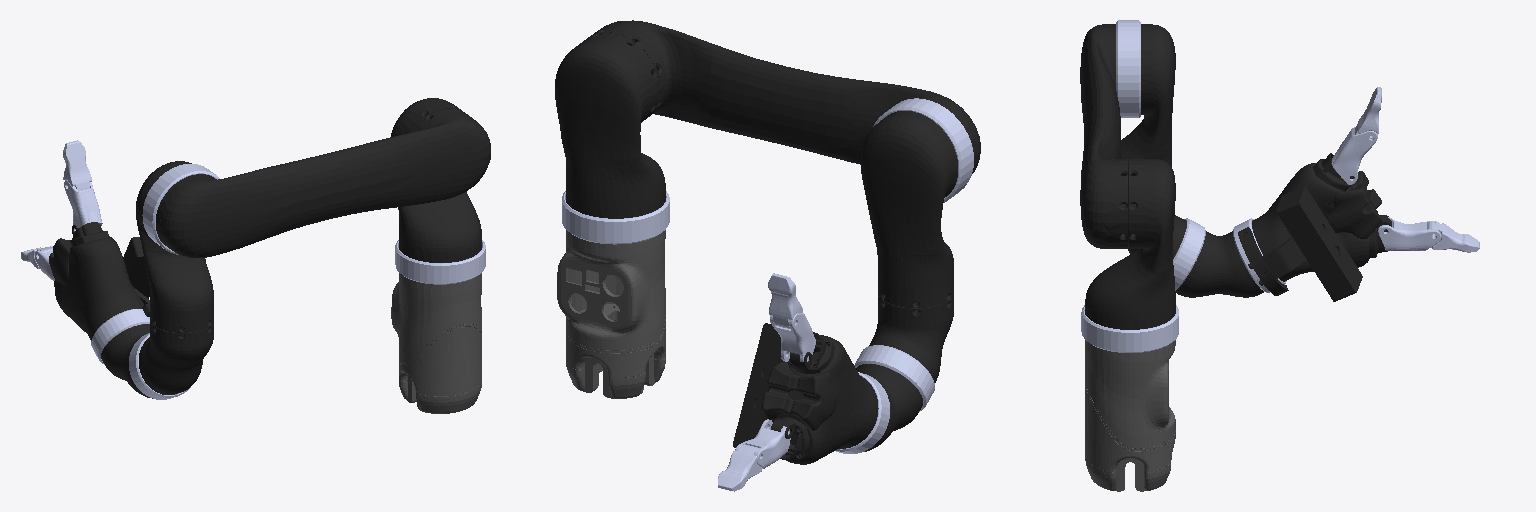
robot.urdf — ADA:
<robot
  name="ADA">
  <link
    name="base_link">
    <inertial>
      <origin
        xyz="0 -0.0018698 0.00076788"
        rpy="0 0 0" />
      <mass
        value="0.64" />
      <inertia
        ixx="0.00059853"
        ixy="0"
        ixz="0"
        iyy="0.00058911"
        iyz="0"
        izz="0.00031086" />
    </inertial>
    <visual>
      <origin
        xyz="0 0 0"
        rpy="0 0 0" />
      <geometry>
        <mesh
          filename="package://ada_description/meshes/base_link.STL" />
      </geometry>
      <material
        name="">
        <color
          rgba="0.4 0.4 0.4 1" />
      </material>
    </visual>
    <collision>
      <origin
        xyz="0 0 0"
        rpy="0 0 0" />
      <geometry>
        <mesh
          filename="package://ada_description/meshes/base_link.STL" />
      </geometry>
    </collision>
  </link>
  <link
    name="Shoulder_Link">
    <inertial>
      <origin
        xyz="0 0.015563 0.072664"
        rpy="0 0 0" />
      <mass
        value="0.15215" />
      <inertia
        ixx="0.00035346"
        ixy="0"
        ixz="0"
        iyy="0.00038125"
        iyz="0"
        izz="0.00016029" />
    </inertial>
    <visual>
      <origin
        xyz="0 0 0"
        rpy="0 0 0" />
      <geometry>
        <mesh
          filename="package://ada_description/meshes/Shoulder_Link.STL" />
      </geometry>
      <material
        name="">
        <color
          rgba="0.2 0.2 0.2 1" />
      </material>
    </visual>
    <collision>
      <origin
        xyz="0 0 0"
        rpy="0 0 0" />
      <geometry>
        <mesh
          filename="package://ada_description/meshes/Shoulder_Link.STL" />
      </geometry>
    </collision>
  </link>
  <joint
    name="j1"
    type="continuous">
    <origin
      xyz="0 0 0.09875"
      rpy="0 0 0" />
    <parent
      link="base_link" />
    <child
      link="Shoulder_Link" />
    <axis
      xyz="0 0 -1" />
    <!--
    <limit
      lower="-3.14"
      upper="3.14"
      effort="0"
      velocity="0.94" />
    -->
    <limit
      effort="18"
      velocity="0.94" />
  </joint>
  <transmission name="Shoulder_Joint_Transmission">
    <type>transmission_interface/SimpleTransmission</type>
    <joint name="j1"/>
    <actuator name="Shoulder_Motor">
      <hardwareInterface>EffortJointInterface</hardwareInterface>
      <mechanicalReduction>136</mechanicalReduction>
    </actuator>
  </transmission>
  <link
    name="Arm_Link">
    <inertial>
      <origin
        xyz="-0.14503 0 -0.02688"
        rpy="0 0 0" />
      <mass
        value="0.2936" />
      <inertia
        ixx="0.00020244"
        ixy="0"
        ixz="0"
        iyy="0.0033623"
        iyz="0"
        izz="0.0034884" />
    </inertial>
    <visual>
      <origin
        xyz="0 0 0"
        rpy="0 0 0" />
      <geometry>
        <mesh
          filename="package://ada_description/meshes/Arm_Link.STL" />
      </geometry>
      <material
        name="">
        <color
          rgba="0.2 0.2 0.2 1" />
      </material>
    </visual>
    <collision>
      <origin
        xyz="0 0 0"
        rpy="0 0 0" />
      <geometry>
        <mesh
          filename="package://ada_description/meshes/Arm_Link.STL" />
      </geometry>
    </collision>
  </link>
  <joint
    name="j2"
    type="revolute">
    <origin
      xyz="0 -0.00175 0.11875"
      rpy="1.5708 0 3.1416" />
    <parent
      link="Shoulder_Link" />
    <child
      link="Arm_Link" />
    <axis
      xyz="0 0 1" />
    <!--
    <limit
      lower="-3.92"
      upper="0.78"
      effort="0"
      velocity="0.94" />
    -->
    <limit
      lower="0.785"
      upper="5.4981853"
      effort="18"
      velocity="0.94" />
  </joint>
  <transmission name="Arm_Joint_Transmission">
    <type>transmission_interface/SimpleTransmission</type>
    <joint name="j2"/>
    <actuator name="Arm_Motor">
      <hardwareInterface>EffortJointInterface</hardwareInterface>
      <mechanicalReduction>136</mechanicalReduction>
    </actuator>
  </transmission>
  <link
    name="Forearm_Link">
    <inertial>
      <origin
        xyz="0 -0.04006 -0.021871"
        rpy="0 0 0" />
      <mass
        value="0.12259" />
      <inertia
        ixx="0.00024901"
        ixy="0"
        ixz="0"
        iyy="0"
        iyz="0"
        izz="0.00028426" />
    </inertial>
    <visual>
      <origin
        xyz="0 0 0"
        rpy="0 0 0" />
      <geometry>
        <mesh
          filename="package://ada_description/meshes/Forearm_Link.STL" />
      </geometry>
      <material
        name="">
        <color
          rgba="0.2 0.2 0.2 1" />
      </material>
    </visual>
    <collision>
      <origin
        xyz="0 0 0"
        rpy="0 0 0" />
      <geometry>
        <mesh
          filename="package://ada_description/meshes/Forearm_Link.STL" />
      </geometry>
    </collision>
  </link>
  <joint
    name="j3"
    type="revolute">
    <origin
      xyz="-0.29 0 0"
      rpy="3.1416 0 -3.1416" />
    <parent
      link="Arm_Link" />
    <child
      link="Forearm_Link" />
    <axis
      xyz="0 0 1" />
    <!--  
    <limit
      lower="-0.87"
      upper="4.01"
      effort="0"
      velocity="0.94" />
    -->
    <limit
      lower="0.65"
      upper="5.6331853"
      effort="18"
      velocity="0.94" />
  </joint>
  <transmission name="Forearm_Joint_Transmission">
    <type>transmission_interface/SimpleTransmission</type>
    <joint name="j3"/>
    <actuator name="Forearm_Motor">
      <hardwareInterface>EffortJointInterface</hardwareInterface>
      <mechanicalReduction>136</mechanicalReduction>
    </actuator>
  </transmission>
  <link
    name="Wrist_1_Link">
    <inertial>
      <origin
        xyz="0 -0.0082688 -0.038029"
        rpy="0 0 0" />
      <mass
        value="0.03694" />
      <inertia
        ixx="0"
        ixy="0"
        ixz="0"
        iyy="0"
        iyz="0"
        izz="0" />
    </inertial>
    <visual>
      <origin
        xyz="0 0 0"
        rpy="0 0 0" />
      <geometry>
        <mesh
          filename="package://ada_description/meshes/Wrist_1_Link.STL" />
      </geometry>
      <material
        name="">
        <color
          rgba="0.2 0.2 0.2 1" />
      </material>
    </visual>
    <collision>
      <origin
        xyz="0 0 0"
        rpy="0 0 0" />
      <geometry>
        <mesh
          filename="package://ada_description/meshes/Wrist_1_Link.STL" />
      </geometry>
    </collision>
  </link>
  <joint
    name="j4"
    type="continuous">
    <origin
      xyz="0 -0.12325 -0.00875"
      rpy="1.5708 0 -3.1416" />
    <parent
      link="Forearm_Link" />
    <child
      link="Wrist_1_Link" />
    <axis
      xyz="0 0 1" />
    <!--
    <limit
      lower="-3.14"
      upper="3.14"
      effort="8"
      velocity="2.0" />
    -->
    <limit
      effort="0"
      velocity="2.0" />
  </joint>
  <transmission name="Wrist_1_Joint_Transmission">
    <type>transmission_interface/SimpleTransmission</type>
    <joint name="j4"/>
    <actuator name="Wrist_1_Motor">
      <hardwareInterface>EffortJointInterface</hardwareInterface>
      <mechanicalReduction>110</mechanicalReduction>
    </actuator>
  </transmission>
  <link
    name="Wrist_2_Link">
    <inertial>
      <origin
        xyz="0 0.0082685 -0.038029"
        rpy="0 0 0" />
      <mass
        value="0.036939" />
      <inertia
        ixx="0"
        ixy="0"
        ixz="0"
        iyy="0"
        iyz="0"
        izz="0" />
    </inertial>
    <visual>
      <origin
        xyz="0 0 0"
        rpy="0 0 0" />
      <geometry>
        <mesh
          filename="package://ada_description/meshes/Wrist_2_Link.STL" />
      </geometry>
      <material
        name="">
        <color
          rgba="0.2 0.2 0.2 1" />
      </material>
    </visual>
    <collision>
      <origin
        xyz="0 0 0"
        rpy="0 0 0" />
      <geometry>
        <mesh
          filename="package://ada_description/meshes/Wrist_2_Link.STL" />
      </geometry>
    </collision>
  </link>
  <joint
    name="j5"
    type="continuous">
    <origin
      xyz="0 -0.037029 -0.064136"
      rpy="1.0472 0 3.1416" />
    <parent
      link="Wrist_1_Link" />
    <child
      link="Wrist_2_Link" />
    <axis
      xyz="0 0 1" />
    <!--
    <limit
      lower="-3.14"
      upper="3.14"
      effort="0"
      velocity="2.0" />
    -->
    <limit
      effort="8"
      velocity="2.0" />
  </joint>
  <transmission name="Wrist_2_Joint_Transmission">
    <type>transmission_interface/SimpleTransmission</type>
    <joint name="j5"/>
    <actuator name="Wrist_2_Motor">
      <hardwareInterface>EffortJointInterface</hardwareInterface>
      <mechanicalReduction>110</mechanicalReduction>
    </actuator>
  </transmission>
  <link
    name="Hand_Link">
    <inertial>
      <origin
        xyz="0.0015134 0 -0.074456"
        rpy="0 0 0" />
      <mass
        value="0.4" />
      <inertia
        ixx="0.00020901"
        ixy="0"
        ixz="0"
        iyy="0.00015498"
        iyz="0"
        izz="0.00012507" />
    </inertial>
    <visual>
      <origin
        xyz="0 0 0"
        rpy="0 0 3.14" />
      <geometry>
        <mesh
          filename="package://ada_description/meshes/Hand_Link_camera.STL" />
      </geometry>
      <material
        name="">
        <color
          rgba="0.2 0.2 0.2 1" />
      </material>
    </visual>
    <collision>
      <origin
        xyz="0 0 0"
        rpy="0 0 3.14" />
      <geometry>
        <mesh
          filename="package://ada_description/meshes/Hand_Link_camera.STL" />
      </geometry>
    </collision>
  </link>
  <joint
    name="j6"
    type="continuous">
    <origin
      xyz="0 0.037029 -0.064136"
      rpy="1.0472 0 0" />
    <parent
      link="Wrist_2_Link" />
    <child
      link="Hand_Link" />
    <axis
      xyz="0 0 1" />
    <!--
    <limit
      lower="-3.14"
      upper="3.14"
      effort="0"
      velocity="2.0" />
    -->
    <limit
      effort="8"
      velocity="2.0" />
  </joint>
  <transmission name="Hand_Joint_Transmission">
    <type>transmission_interface/SimpleTransmission</type>
    <joint name="j6"/>
    <actuator name="Hand_Motor">
      <hardwareInterface>EffortJointInterface</hardwareInterface>
      <mechanicalReduction>110</mechanicalReduction>
    </actuator>
  </transmission>
  <link
    name="Finger_1_Proximal_Link">
    <inertial>
      <origin
        xyz="-0.00894704183784709 -0.0181466381953971 0"
        rpy="0 0 0" />
      <mass
        value="0.0106365590225629" />
      <inertia
        ixx="0"
        ixy="0"
        ixz="0"
        iyy="0"
        iyz="0"
        izz="0" />
    </inertial>
    <visual>
      <origin
        xyz="0 0 0"
        rpy="0 0 0" />
      <geometry>
        <mesh
          filename="package://ada_description/meshes/Finger_1_Proximal_Link.STL" />
      </geometry>
      <material
        name="">
        <color
          rgba="0.792156862745098 0.819607843137255 0.933333333333333 1" />
      </material>
    </visual>
    <collision>
      <origin
        xyz="0 0 0"
        rpy="0 0 0" />
      <geometry>
        <mesh
          filename="package://ada_description/meshes/Finger_1_Proximal_Link.STL" />
      </geometry>
    </collision>
  </link>
  <joint
    name="f1"
    type="revolute">
    <origin
      xyz="0.0024957 -0.030948 -0.11482"
      rpy="1.5708 0.56392 1.5708" />
    <parent
      link="Hand_Link" />
    <child
      link="Finger_1_Proximal_Link" />
    <axis
      xyz="0 0 1" />
    <limit
      lower="0"
      upper="1.20"
      effort="1.2"
      velocity="0.785398163" />
  </joint>
  <transmission name="Finger_1_Proximal_Joint_Transmission">
    <type>transmission_interface/SimpleTransmission</type>
    <joint name="f1"/>
    <actuator name="Finger_1_Proximal_Motor">
      <hardwareInterface>EffortJointInterface</hardwareInterface>
      <mechanicalReduction>1</mechanicalReduction>
    </actuator>
  </transmission>
  <link
    name="Finger_1_Distal_Link">
    <inertial>
      <origin
        xyz="-0.0047690584177113 -0.0133399601477665 0"
        rpy="0 0 0" />
      <mass
        value="0.0121939815401302" />
      <inertia
        ixx="0"
        ixy="0"
        ixz="0"
        iyy="0"
        iyz="0"
        izz="0" />
    </inertial>
    <visual>
      <origin
        xyz="0 0 0"
        rpy="0 0 0" />
      <geometry>
        <mesh
          filename="package://ada_description/meshes/Finger_1_Distal_Link.STL" />
      </geometry>
      <material
        name="">
        <color
          rgba="0.792156862745098 0.819607843137255 0.933333333333333 1" />
      </material>
    </visual>
    <collision>
      <origin
        xyz="0 0 0"
        rpy="0 0 0" />
      <geometry>
        <mesh
          filename="package://ada_description/meshes/Finger_1_Distal_Link.STL" />
      </geometry>
    </collision>
  </link>
  <joint
    name="Finger_1_Distal_Joint"
    type="revolute">
    <origin
      xyz="-0.003 -0.044 0"
      rpy="0 0 -0.19199" />
    <parent
      link="Finger_1_Proximal_Link" />
    <child
      link="Finger_1_Distal_Link" />
    <axis
      xyz="0 0 1" />
    <limit
      lower="0"
      upper="1.05"
      effort="1.2"
      velocity="0.785398163" />
    <mimic 
      joint="Finger_1_Proximal_Joint"
      multiplier="0.5" />
  </joint>
  <transmission name="Finger_1_Distal_Joint_Transmission">
    <type>transmission_interface/SimpleTransmission</type>
    <joint name="Finger_1_Distal_Joint"/>
    <actuator name="Finger_1_Distal_Motor">
      <hardwareInterface>EffortJointInterface</hardwareInterface>
      <mechanicalReduction>1</mechanicalReduction>
    </actuator>
  </transmission>
  <link
    name="Finger_2_Proximal_Link">
    <inertial>
      <origin
        xyz="-0.00894697932265109 -0.018146678045967 0"
        rpy="0 0 0" />
      <mass
        value="0.0106364391584646" />
      <inertia
        ixx="0"
        ixy="0"
        ixz="0"
        iyy="0"
        iyz="0"
        izz="0" />
    </inertial>
    <visual>
      <origin
        xyz="0 0 0"
        rpy="0 0 0" />
      <geometry>
        <mesh
          filename="package://ada_description/meshes/Finger_2_Proximal_Link.STL" />
      </geometry>
      <material
        name="">
        <color
          rgba="0.792156862745098 0.819607843137255 0.933333333333333 1" />
      </material>
    </visual>
    <collision>
      <origin
        xyz="0 0 0"
        rpy="0 0 0" />
      <geometry>
        <mesh
          filename="package://ada_description/meshes/Finger_2_Proximal_Link.STL" />
      </geometry>
    </collision>
  </link>
  <joint
    name="f2"
    type="revolute">
    <origin
      xyz="0.0024957 0.030948 -0.11482"
      rpy="1.5708 0.56392 -1.5708" />
    <parent
      link="Hand_Link" />
    <child
      link="Finger_2_Proximal_Link" />
    <axis
      xyz="0 0 1" />
    <limit
      lower="0"
      upper="1.20"
      effort="1.2"
      velocity="0.785398163" />
  </joint>
  <transmission name="Finger_2_Proximal_Joint_Transmission">
    <type>transmission_interface/SimpleTransmission</type>
    <joint name="f2"/>
    <actuator name="Finger_2_Proximal_Motor">
      <hardwareInterface>EffortJointInterface</hardwareInterface>
      <mechanicalReduction>1</mechanicalReduction>
    </actuator>
  </transmission>
  <link
    name="Finger_2_Distal_Link">
    <inertial>
      <origin
        xyz="-0.00476909654850879 -0.0133398607161451 0"
        rpy="0 0 0" />
      <mass
        value="0.0121939010456702" />
      <inertia
        ixx="0"
        ixy="0"
        ixz="0"
        iyy="0"
        iyz="0"
        izz="0" />
    </inertial>
    <visual>
      <origin
        xyz="0 0 0"
        rpy="0 0 0" />
      <geometry>
        <mesh
          filename="package://ada_description/meshes/Finger_2_Distal_Link.STL" />
      </geometry>
      <material
        name="">
        <color
          rgba="0.792156862745098 0.819607843137255 0.933333333333333 1" />
      </material>
    </visual>
    <collision>
      <origin
        xyz="0 0 0"
        rpy="0 0 0" />
      <geometry>
        <mesh
          filename="package://ada_description/meshes/Finger_2_Distal_Link.STL" />
      </geometry>
    </collision>
  </link>
  <joint
    name="Finger_2_Distal_Joint"
    type="revolute">
    <origin
      xyz="-0.003 -0.044 0"
      rpy="0 0 -0.19199" />
    <parent
      link="Finger_2_Proximal_Link" />
    <child
      link="Finger_2_Distal_Link" />
    <axis
      xyz="0 0 1" />
    <limit
      lower="0"
      upper="1.05"
      effort="1.2"
      velocity="0.785398163" />
    <mimic 
      joint="Finger_1_Proximal_Joint"
      multiplier="0.5" />
  </joint>
  <transmission name="Finger_2_Distal_Joint_Transmission">
    <type>transmission_interface/SimpleTransmission</type>
    <joint name="Finger_2_Distal_Joint"/>
    <actuator name="Finger_2_Distal_Motor">
      <hardwareInterface>EffortJointInterface</hardwareInterface>
      <mechanicalReduction>1</mechanicalReduction>
    </actuator>
  </transmission>
  <link
    name="Hand_Ring_Link">
    <inertial>
      <origin
        xyz="0 0 0"
        rpy="0 0 0" />
      <mass
        value="0.4" />
      <inertia
        ixx="0"
        ixy="0"
        ixz="0"
        iyy="0"
        iyz="0"
        izz="0" />
    </inertial>
    <visual>
      <origin
        xyz="0 0 0"
        rpy="0 0 0" />
      <geometry>
        <mesh
          filename="package://ada_description/meshes/Hand_Ring_Link.STL" />
      </geometry>
      <material
        name="">
        <color
          rgba="0.79216 0.81961 0.93333 1" />
      </material>
    </visual>
    <collision>
      <origin
        xyz="0 0 0"
        rpy="0 0 0" />
      <geometry>
        <mesh
          filename="package://ada_description/meshes/Hand_Ring_Link.STL" />
      </geometry>
    </collision>
  </link>
  <joint
    name="Hand_Ring_Joint"
    type="fixed">
    <origin
      xyz="0 0 0"
      rpy="0 0 0" />
    <parent
      link="Hand_Link" />
    <child
      link="Hand_Ring_Link" />
    <axis
      xyz="0 0 0" />
  </joint>
  <link
    name="Wrist_2_Ring_Link">
    <inertial>
      <origin
        xyz="0 0 0"
        rpy="0 0 0" />
      <mass
        value="0.4" />
      <inertia
        ixx="0"
        ixy="0"
        ixz="0"
        iyy="0"
        iyz="0"
        izz="0" />
    </inertial>
    <visual>
      <origin
        xyz="0 0 0"
        rpy="0 0 0" />
      <geometry>
        <mesh
          filename="package://ada_description/meshes/Wrist_2_Ring_Link.STL" />
      </geometry>
      <material
        name="">
        <color
          rgba="0.79216 0.81961 0.93333 1" />
      </material>
    </visual>
    <collision>
      <origin
        xyz="0 0 0"
        rpy="0 0 0" />
      <geometry>
        <mesh
          filename="package://ada_description/meshes/Wrist_2_Ring_Link.STL" />
      </geometry>
    </collision>
  </link>
  <joint
    name="Wrist_2_Ring_Joint"
    type="fixed">
    <origin
      xyz="0 0 0"
      rpy="0 0 0" />
    <parent
      link="Wrist_2_Link" />
    <child
      link="Wrist_2_Ring_Link" />
    <axis
      xyz="0 0 0" />
  </joint>
  <link
    name="Wrist_1_Ring_Link">
    <inertial>
      <origin
        xyz="0 0 0"
        rpy="0 0 0" />
      <mass
        value="0.4" />
      <inertia
        ixx="0"
        ixy="0"
        ixz="0"
        iyy="0"
        iyz="0"
        izz="0" />
    </inertial>
    <visual>
      <origin
        xyz="0 0 0"
        rpy="0 0 0" />
      <geometry>
        <mesh
          filename="package://ada_description/meshes/Wrist_1_Ring_Link.STL" />
      </geometry>
      <material
        name="">
        <color
          rgba="0.79216 0.81961 0.93333 1" />
      </material>
    </visual>
    <collision>
      <origin
        xyz="0 0 0"
        rpy="0 0 0" />
      <geometry>
        <mesh
          filename="package://ada_description/meshes/Wrist_1_Ring_Link.STL" />
      </geometry>
    </collision>
  </link>
  <joint
    name="Wrist_1_Ring_Joint"
    type="fixed">
    <origin
      xyz="0 0 0"
      rpy="0 0 0" />
    <parent
      link="Wrist_1_Link" />
    <child
      link="Wrist_1_Ring_Link" />
    <axis
      xyz="0 0 0" />
  </joint>
  <link
    name="Forearm_Ring_Link">
    <inertial>
      <origin
        xyz="0 0 0"
        rpy="0 0 0" />
      <mass
        value="0.76" />
      <inertia
        ixx="0"
        ixy="0"
        ixz="0"
        iyy="0"
        iyz="0"
        izz="0" />
    </inertial>
    <visual>
      <origin
        xyz="0 0 0"
        rpy="0 0 0" />
      <geometry>
        <mesh
          filename="package://ada_description/meshes/Forearm_Ring_Link.STL" />
      </geometry>
      <material
        name="">
        <color
          rgba="0.79216 0.81961 0.93333 1" />
      </material>
    </visual>
    <collision>
      <origin
        xyz="0 0 0"
        rpy="0 0 0" />
      <geometry>
        <mesh
          filename="package://ada_description/meshes/Forearm_Ring_Link.STL" />
      </geometry>
    </collision>
  </link>
  <joint
    name="Forearm_Ring_Joint"
    type="fixed">
    <origin
      xyz="0 0 0"
      rpy="0 0 0" />
    <parent
      link="Forearm_Link" />
    <child
      link="Forearm_Ring_Link" />
    <axis
      xyz="0 0 0" />
  </joint>
  <link
    name="Arm_Ring_Link">
    <inertial>
      <origin
        xyz="0 0 0"
        rpy="0 0 0" />
      <mass
        value="0.76" />
      <inertia
        ixx="0"
        ixy="0"
        ixz="0"
        iyy="0"
        iyz="0"
        izz="0" />
    </inertial>
    <visual>
      <origin
        xyz="0 0 0"
        rpy="0 0 0" />
      <geometry>
        <mesh
          filename="package://ada_description/meshes/Arm_Ring_Link.STL" />
      </geometry>
      <material
        name="">
        <color
          rgba="0.79216 0.81961 0.93333 1" />
      </material>
    </visual>
    <collision>
      <origin
        xyz="0 0 0"
        rpy="0 0 0" />
      <geometry>
        <mesh
          filename="package://ada_description/meshes/Arm_Ring_Link.STL" />
      </geometry>
    </collision>
  </link>
  <joint
    name="Arm_Ring_Joint"
    type="fixed">
    <origin
      xyz="0 0 0"
      rpy="0 0 0" />
    <parent
      link="Arm_Link" />
    <child
      link="Arm_Ring_Link" />
    <axis
      xyz="0 0 0" />
  </joint>
  <link
    name="Shoulder_Ring_Link">
    <inertial>
      <origin
        xyz="0 0 0"
        rpy="0 0 0" />
      <mass
        value="0.76" />
      <inertia
        ixx="0"
        ixy="0"
        ixz="0"
        iyy="0"
        iyz="0"
        izz="0" />
    </inertial>
    <visual>
      <origin
        xyz="0 0 0"
        rpy="0 0 0" />
      <geometry>
        <mesh
          filename="package://ada_description/meshes/Shoulder_Ring_Link.STL" />
      </geometry>
      <material
        name="">
        <color
          rgba="0.79216 0.81961 0.93333 1" />
      </material>
    </visual>
    <collision>
      <origin
        xyz="0 0 0"
        rpy="0 0 0" />
      <geometry>
        <mesh
          filename="package://ada_description/meshes/Shoulder_Ring_Link.STL" />
      </geometry>
    </collision>
  </link>
  <joint
    name="Shoulder_Ring_Joint"
    type="fixed">
    <origin
      xyz="0 0 0"
      rpy="0 0 0" />
    <parent
      link="Shoulder_Link" />
    <child
      link="Shoulder_Ring_Link" />
    <axis
      xyz="0 0 0" />
  </joint>
</robot>

--- Render facts (derived) ---
3 views of the same robot in one strip: view 1: azimuth 30°, elevation 25°; view 2: azimuth 150°, elevation 25°; view 3: azimuth 270°, elevation 25° (orthographic).
Robot: ADA — 17 links, 16 joints (6 revolute, 4 continuous, 6 fixed); root link base_link; default pose: joints at zero except 2 at the middle of their limits (j2 = 3.14, j3 = 3.14).
Links seen in each view (by area): view 1: Arm_Link, base_link, Hand_Link, Shoulder_Link, Forearm_Link, Wrist_1_Link, Shoulder_Ring_Link, Forearm_Ring_Link, Wrist_2_Link, Hand_Ring_Link, Finger_2_Proximal_Link, Finger_2_Distal_Link (+1 smaller); view 2: Arm_Link, Shoulder_Link, base_link, Forearm_Link, Hand_Link, Wrist_1_Link, Shoulder_Ring_Link, Forearm_Ring_Link, Wrist_2_Link, Wrist_2_Ring_Link, Finger_2_Distal_Link, Finger_2_Proximal_Link (+3 smaller); view 3: Hand_Link, base_link, Shoulder_Link, Arm_Link, Forearm_Link, Wrist_2_Link, Forearm_Ring_Link, Shoulder_Ring_Link, Finger_1_Proximal_Link, Finger_2_Proximal_Link, Wrist_2_Ring_Link, Finger_1_Distal_Link (+2 smaller).
Link boxes in pixels (x1,y1,x2,y2): Arm_Link: [156, 109, 490, 257]; base_link: [391, 273, 481, 413]; Hand_Link: [49, 222, 149, 340]; Shoulder_Link: [391, 98, 481, 262]; Forearm_Link: [136, 161, 213, 332]; Wrist_1_Link: [139, 320, 213, 394]; Shoulder_Ring_Link: [395, 240, 485, 284]; Forearm_Ring_Link: [142, 164, 219, 254]; Wrist_2_Link: [101, 324, 152, 398]; Hand_Ring_Link: [91, 309, 149, 364]; Finger_2_Proximal_Link: [64, 180, 102, 231]; Finger_2_Distal_Link: [63, 140, 91, 191]; Arm_Link: [588, 20, 980, 173]; Shoulder_Link: [555, 32, 665, 218]; base_link: [557, 230, 665, 398]; Forearm_Link: [861, 111, 957, 307]; Hand_Link: [733, 323, 878, 464]; Wrist_1_Link: [869, 294, 953, 382]; Shoulder_Ring_Link: [562, 191, 669, 244]; Forearm_Ring_Link: [873, 98, 973, 202]; Wrist_2_Link: [856, 364, 922, 451]; Wrist_2_Ring_Link: [854, 345, 934, 411]; Finger_2_Distal_Link: [768, 273, 802, 328]; Finger_2_Proximal_Link: [770, 313, 815, 361]; Hand_Link: [1238, 153, 1391, 301]; base_link: [1085, 340, 1175, 491]; Shoulder_Link: [1085, 159, 1175, 329]; Arm_Link: [1080, 24, 1127, 248]; Forearm_Link: [1120, 24, 1175, 205]; Wrist_2_Link: [1175, 231, 1263, 297]; Forearm_Ring_Link: [1116, 20, 1140, 117]; Shoulder_Ring_Link: [1081, 305, 1178, 352]; Finger_1_Proximal_Link: [1378, 217, 1440, 250]; Finger_2_Proximal_Link: [1331, 127, 1377, 184]; Wrist_2_Ring_Link: [1173, 218, 1205, 290]; Finger_1_Distal_Link: [1427, 222, 1479, 252].
Bounding box of the posed robot: 0.379 × 0.3641 × 0.3199 m (x, y, z).
15 mesh visuals loaded from 17 distinct referenced files (15 binary STL); not drawn: 2 (reference not matched to a file when rendering).
